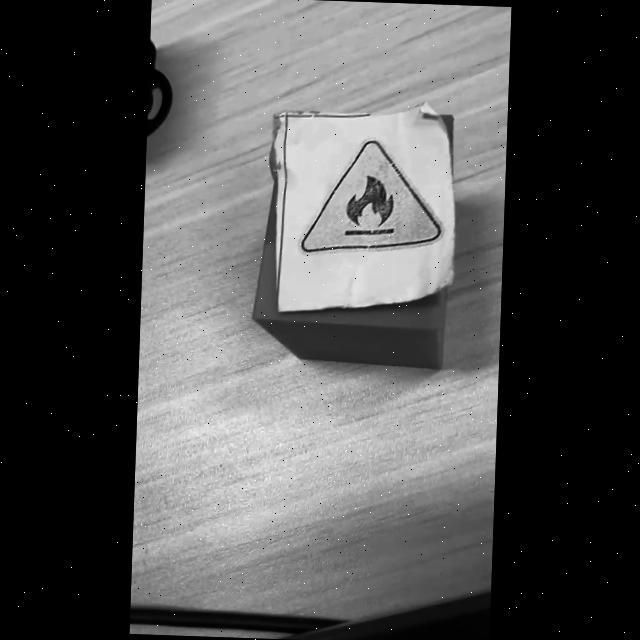Fire: (301, 140, 441, 253)
